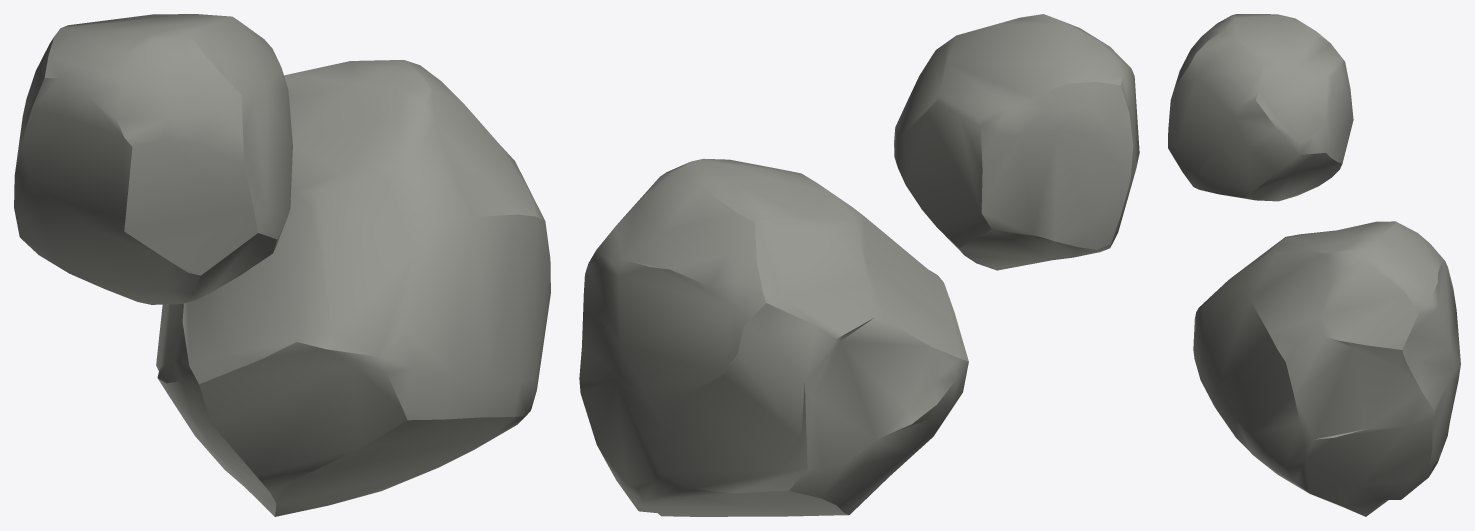
The model's file is quaternius-pirate-ui-rocks.glb.
3 views of the same model, side by side, from view 1: azimuth 30°, elevation 25°; view 2: azimuth 150°, elevation 25°; view 3: azimuth 270°, elevation 25° (orthographic). The views are drawn at different scales.
Parts seen in each view (by area): view 1: UI_Rocks; view 2: UI_Rocks; view 3: UI_Rocks.
Boxes of the visible parts, left/top/right/bottom form: UI_Rocks: left=14, top=14, right=550, bottom=516; UI_Rocks: left=579, top=14, right=1139, bottom=516; UI_Rocks: left=1168, top=14, right=1460, bottom=516.
Size of the model in its own units: 0.4072 by 0.4131 by 0.2855.
Materials: 1 (1 with a texture image).
